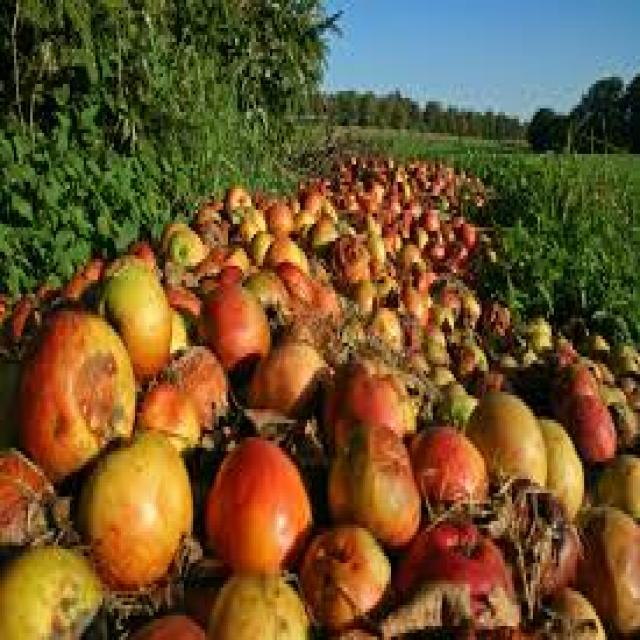Wet: (27, 312, 143, 466), (82, 448, 192, 580), (216, 442, 307, 580), (334, 426, 426, 536), (430, 521, 522, 628), (100, 259, 176, 379), (310, 523, 392, 630), (472, 396, 550, 494), (202, 288, 271, 370), (576, 389, 622, 458), (333, 230, 375, 296), (266, 246, 314, 302), (263, 196, 300, 242), (400, 244, 432, 296), (371, 304, 405, 351), (169, 230, 203, 264), (456, 221, 482, 251)
